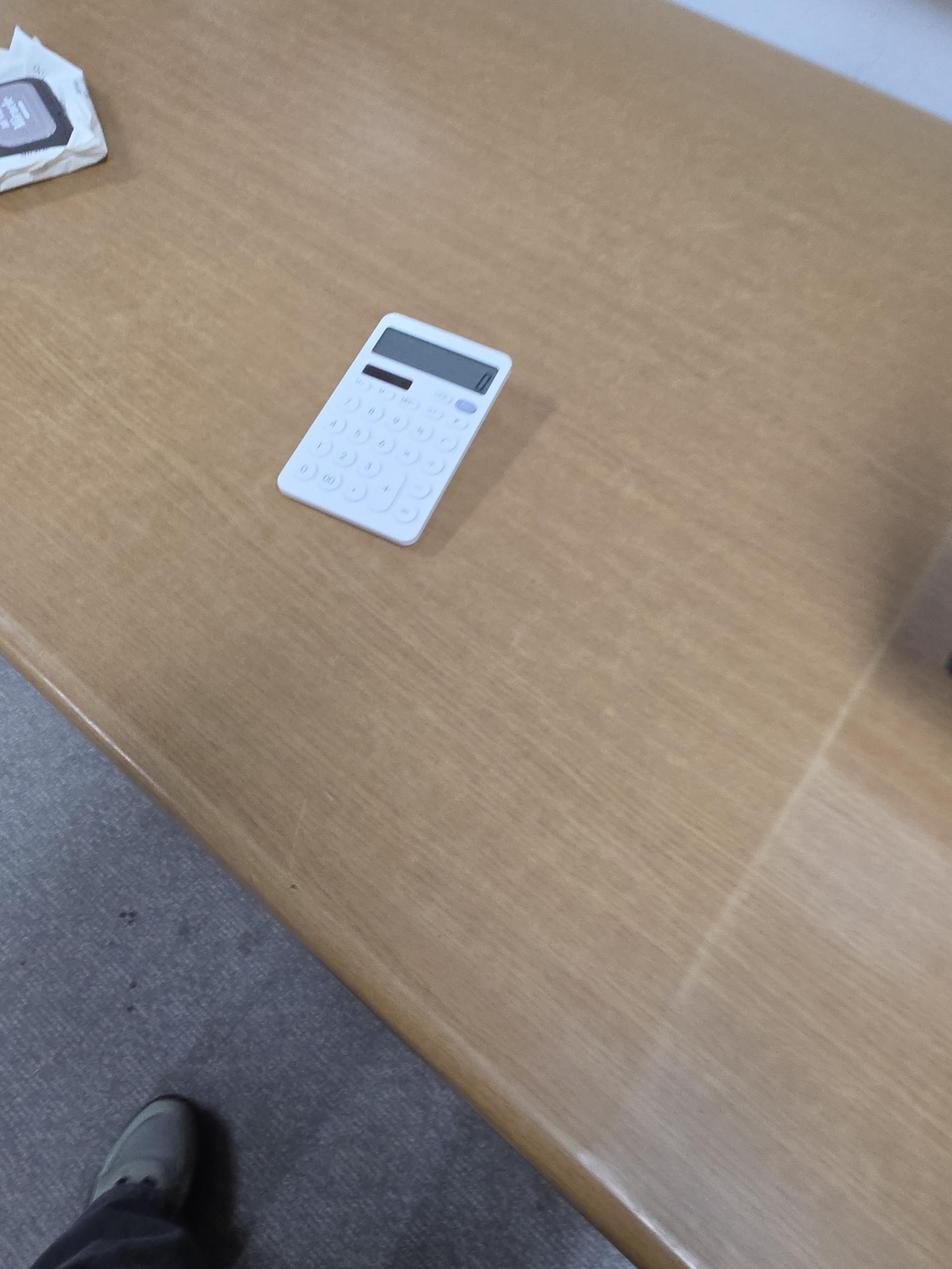calculator: (277, 312, 513, 547)
tissue: (0, 25, 109, 193)
